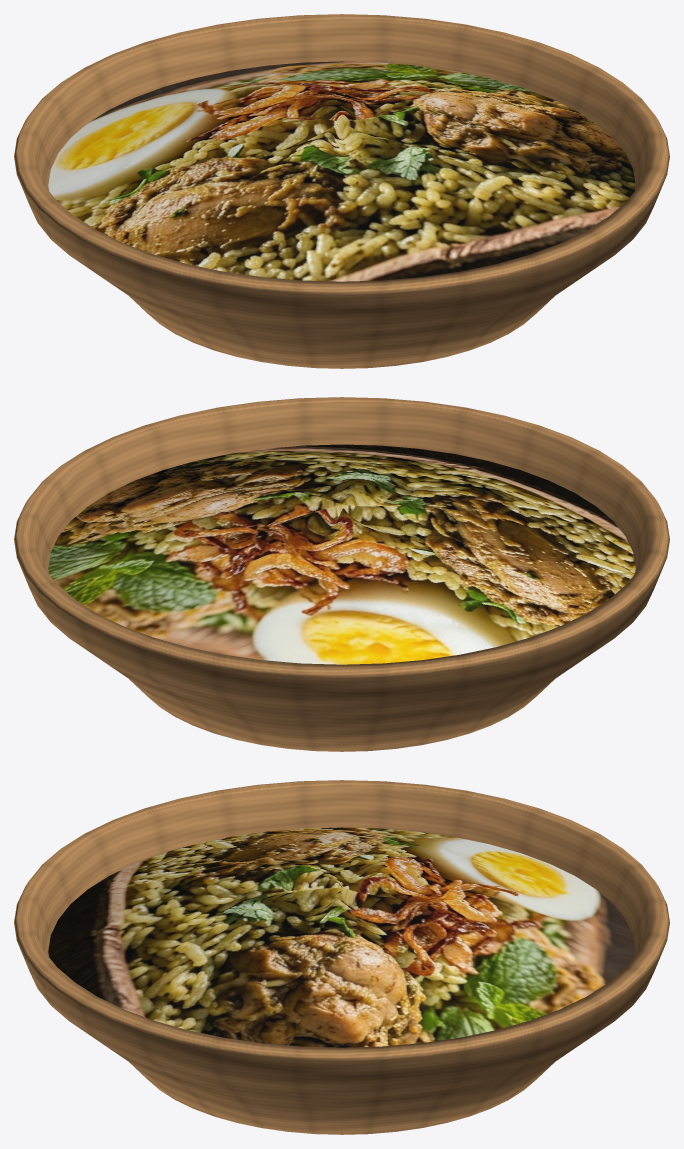
The model's file is donne-biryani.glb.
3 views of the same model, one above another, from view 1: azimuth 30°, elevation 25°; view 2: azimuth 150°, elevation 25°; view 3: azimuth 270°, elevation 25° (orthographic).
Visible parts, largest first — view 1: FoodMound, BambooBowl; view 2: FoodMound, BambooBowl; view 3: FoodMound, BambooBowl.
Boxes of the visible parts, left/top/right/bottom form: FoodMound: left=48, top=61, right=635, bottom=281; BambooBowl: left=14, top=14, right=669, bottom=368; FoodMound: left=48, top=444, right=635, bottom=664; BambooBowl: left=14, top=397, right=669, bottom=751; FoodMound: left=48, top=827, right=635, bottom=1047; BambooBowl: left=14, top=780, right=669, bottom=1134.
Bounding box in the file's own units: 0.24 × 0.066 × 0.24.
2 materials, 2 textured.
